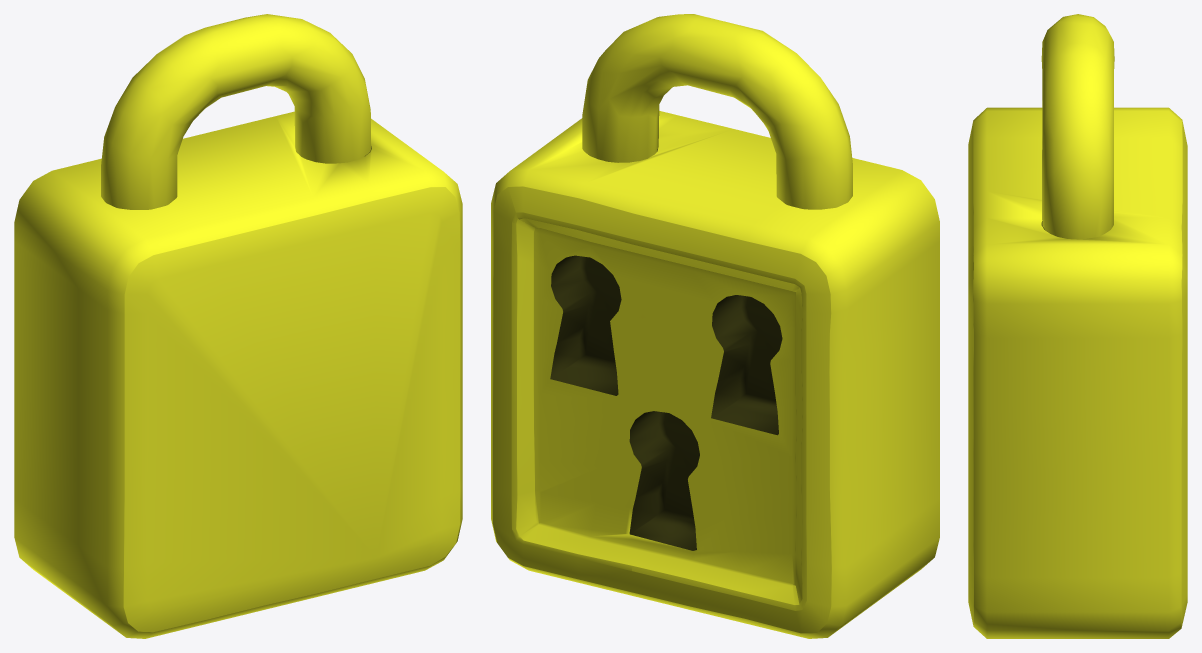
Rendered from Lock3.fbx.
The picture shows the model from 3 angles, left to right: view 1: azimuth 30°, elevation 25°; view 2: azimuth 150°, elevation 25°; view 3: azimuth 270°, elevation 25°; orthographic projection. The views are drawn at different scales.
Visible parts, largest first — view 1: lock_03, closure_03.003; view 2: lock_03, closure_03.003, lock_03.001, lock_03.002, lock_03.003; view 3: lock_03, closure_03.003.
Part boxes in pixels (x1,y1,x2,y2): lock_03: (14,111,462,638); closure_03.003: (101,14,371,209); lock_03: (491,111,939,638); closure_03.003: (582,14,852,209); lock_03.001: (550,255,621,395); lock_03.002: (711,295,782,435); lock_03.003: (629,411,699,550); lock_03: (968,107,1187,638); closure_03.003: (1041,14,1114,239).
Bounding box in the file's own units: 305 × 449 × 167.
